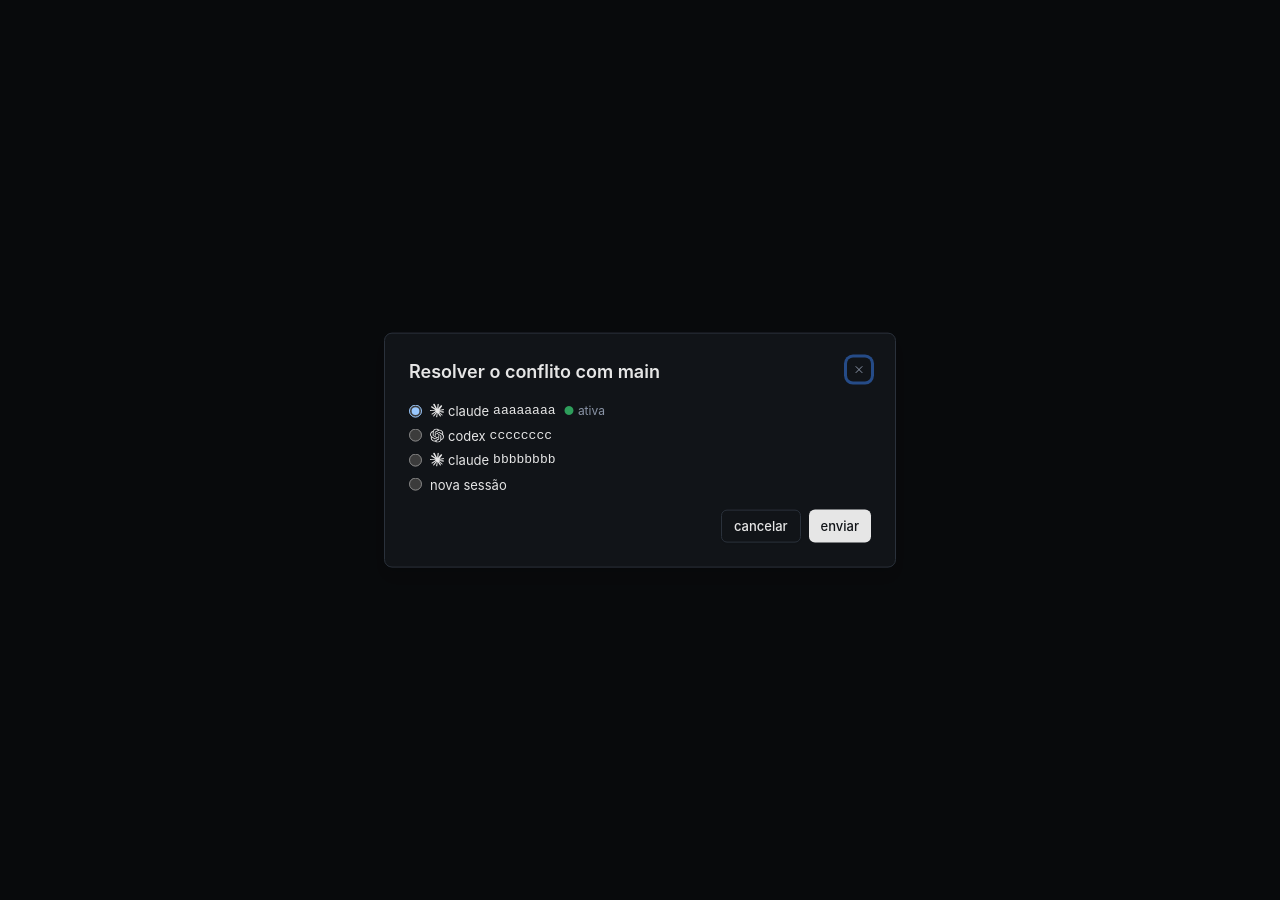
a live session that turned busy or ended shows the busy error and the dialog stays open; any other failure shows Erro inesperado (#379)
The width and height of the screenshot is (1280, 900).
Click the button "enviar" at {"x": 840, "y": 526}, box [809,510,871,542]
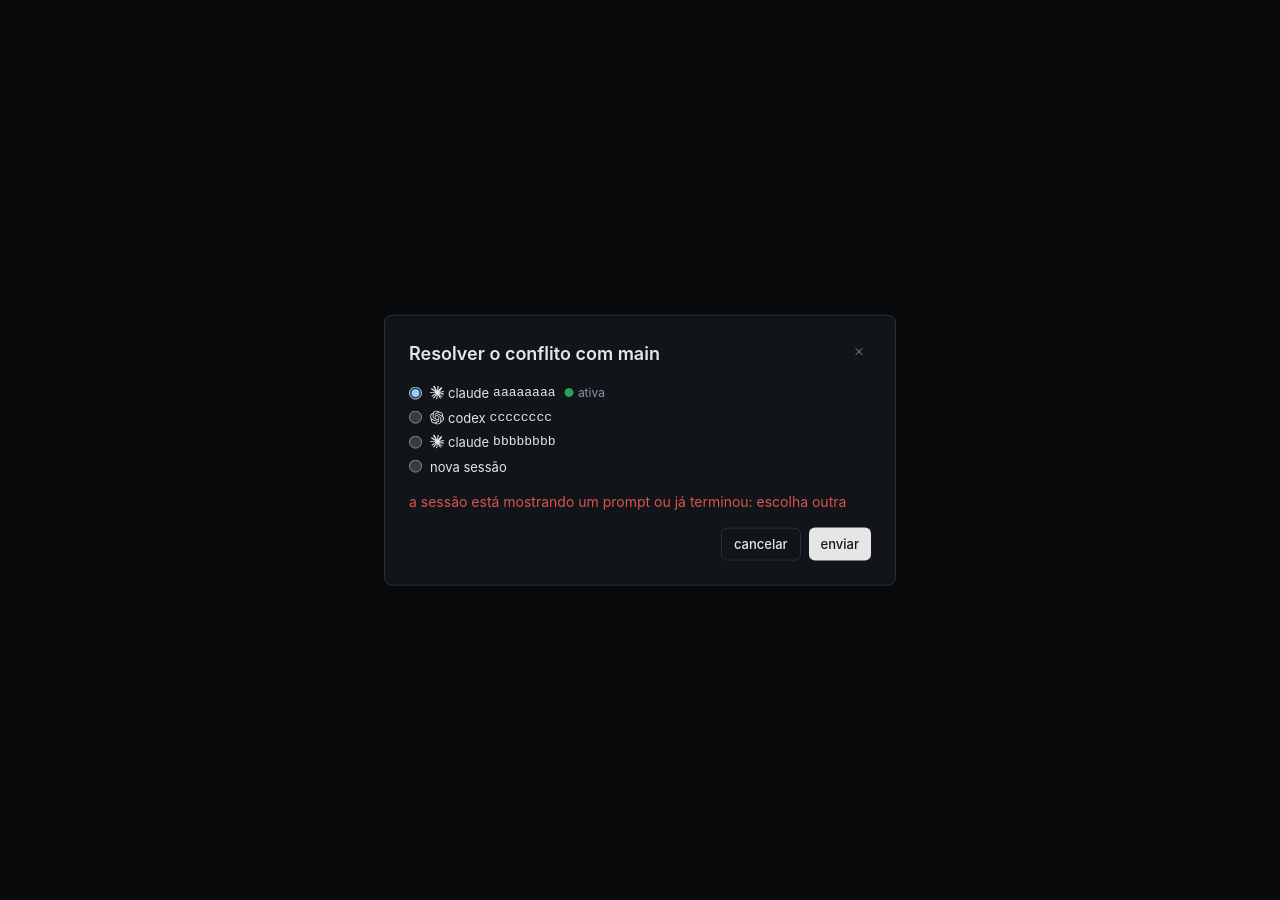
Check: the message reads "a sessão está mostrando um prompt ou já terminou: escolha outra", box [409,493,846,510]
Click the radio button labelled "nova sessão" at {"x": 416, "y": 467}, box [409,460,422,473]
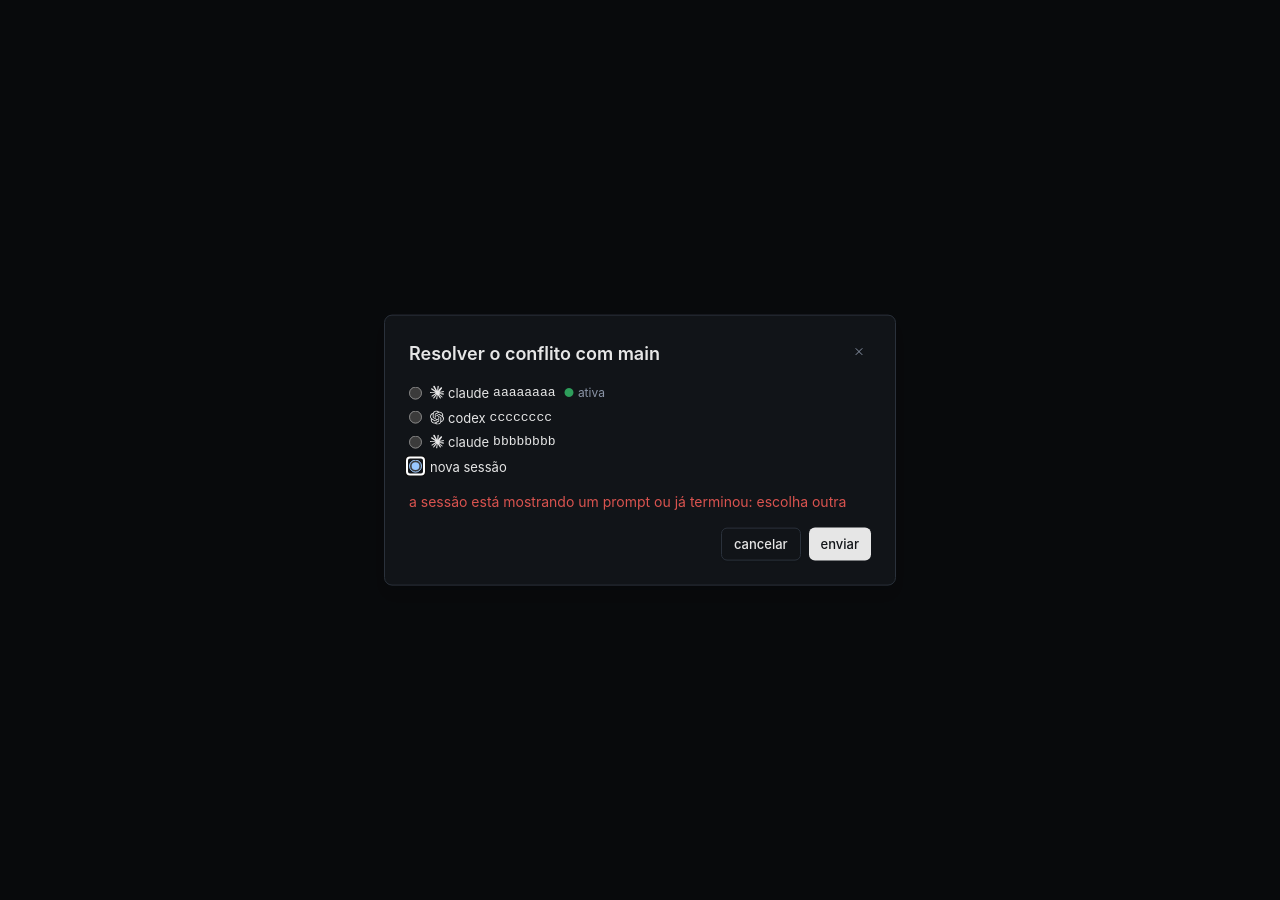
Click the button "enviar" at {"x": 840, "y": 544}, box [809,528,871,560]
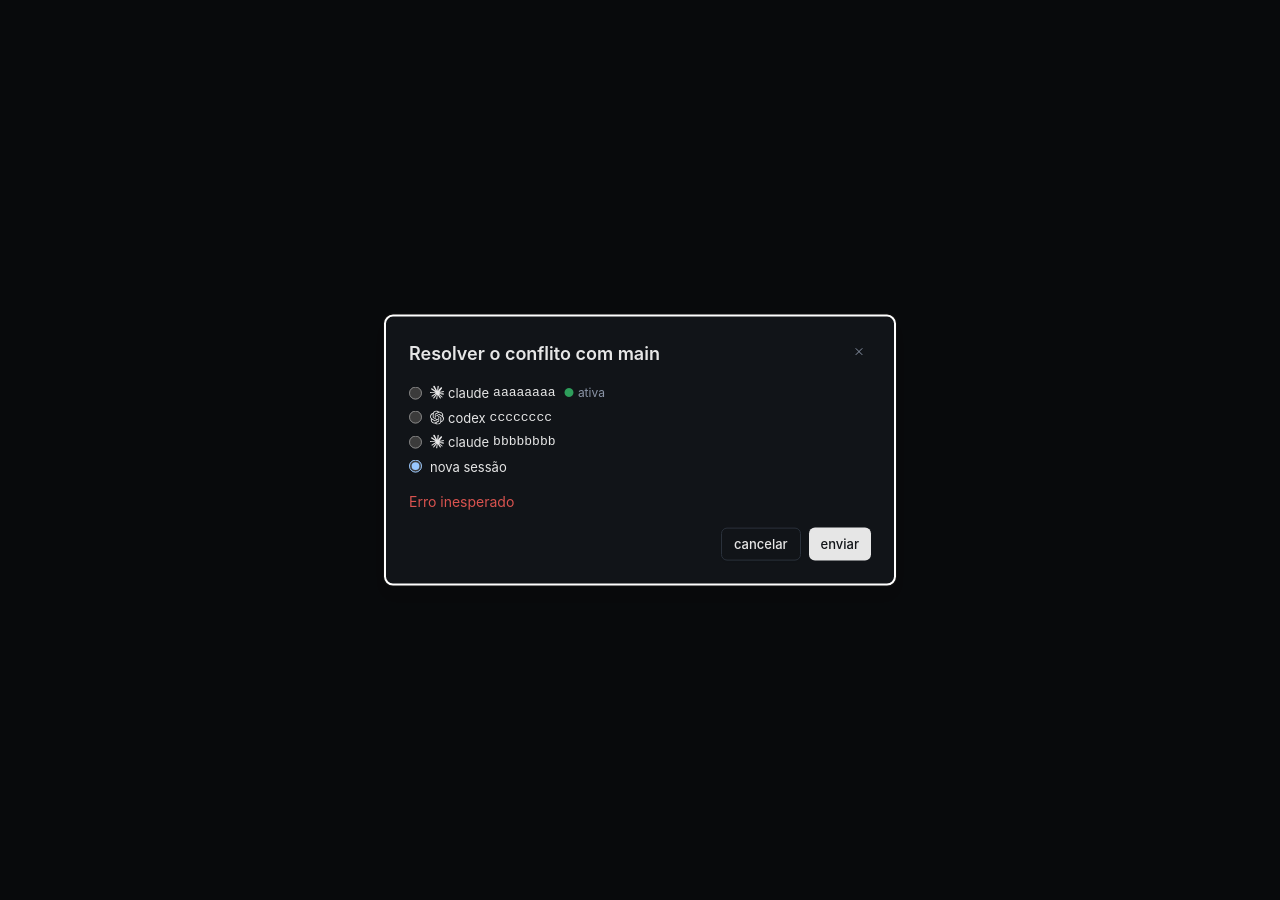
Check: the message reads "Erro inesperado", box [409,493,514,510]
